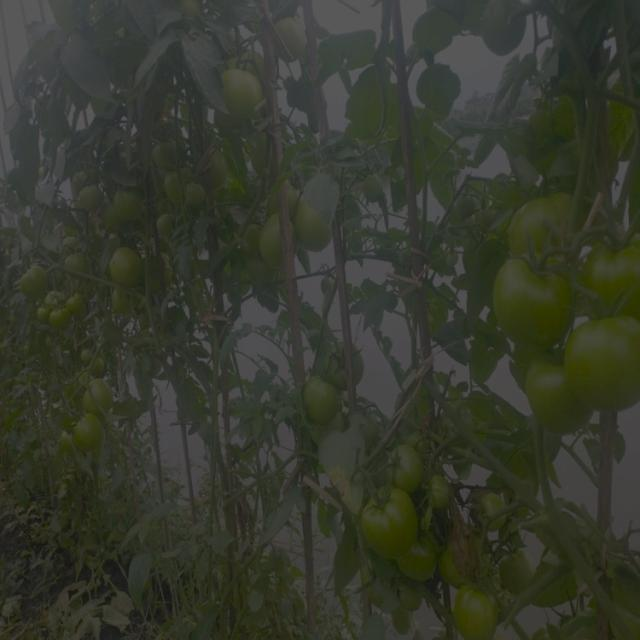tomato: (495, 253, 569, 345), (578, 314, 640, 410), (523, 348, 587, 439), (505, 191, 581, 256), (578, 232, 640, 306), (446, 580, 503, 635), (363, 490, 415, 550), (479, 1, 526, 57), (399, 529, 440, 591), (225, 60, 264, 114), (300, 370, 342, 419), (71, 408, 112, 456), (296, 208, 336, 255), (421, 466, 457, 514), (394, 442, 428, 490), (256, 217, 284, 270), (111, 195, 154, 227), (17, 265, 58, 296), (476, 487, 510, 522), (111, 246, 143, 283), (278, 12, 305, 55), (83, 376, 108, 417), (110, 289, 136, 322), (67, 178, 101, 201), (189, 176, 213, 208), (153, 211, 176, 244), (358, 174, 387, 200), (64, 258, 91, 274), (51, 304, 71, 324), (62, 295, 77, 317), (83, 348, 99, 365)
